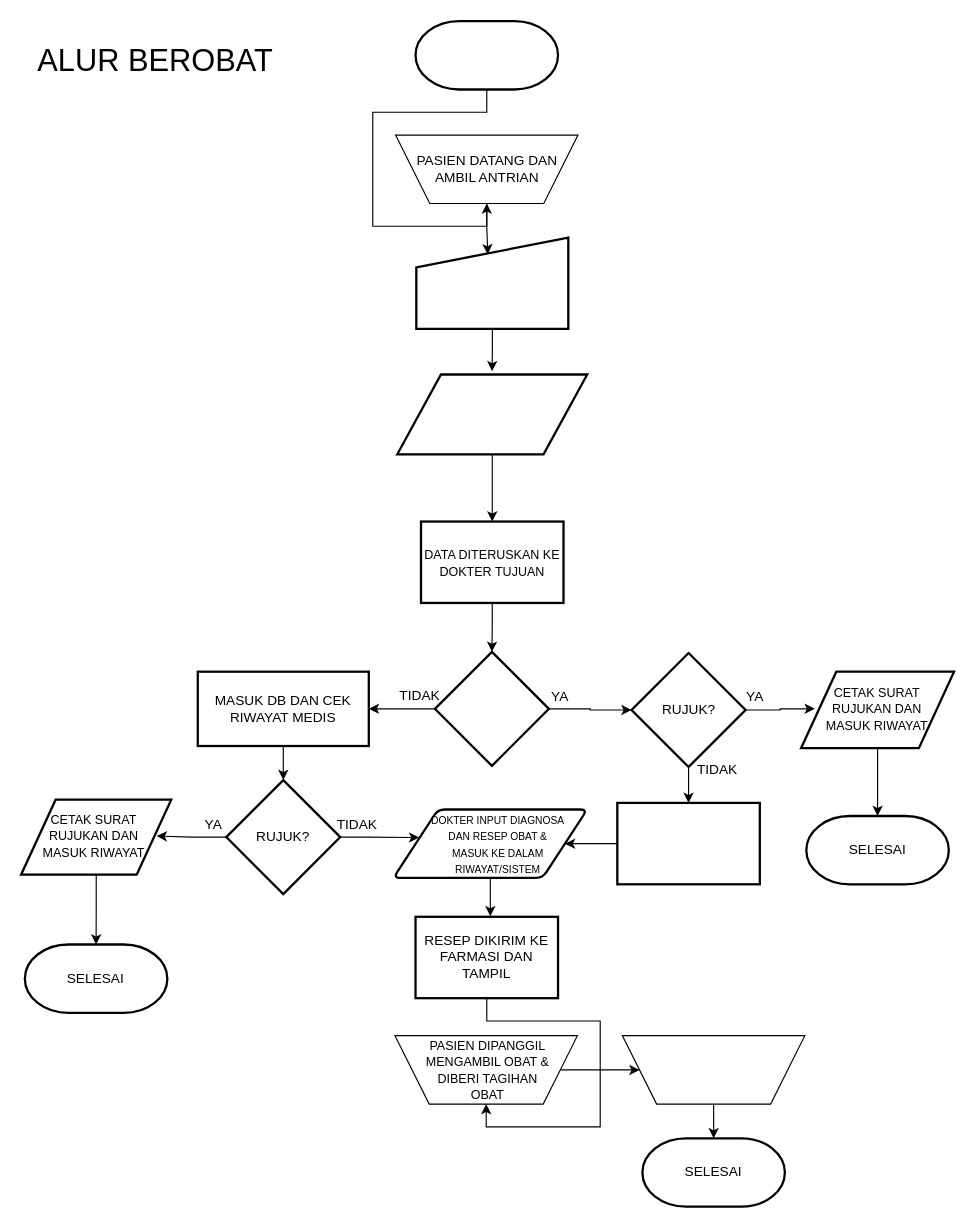
This 975x1227 diagram has some shape labels left out. The centre of each missing label's shape, as x and y in pixels:
ADMIN INPUT DATA PASIEN (NIK, NAMA, KELUHAN, DOKTER): [492,414]
ADMIN KLIK ANTRIAN SELANJUTNYA: [492,282]
BALITA?: [491,708]
MASUK KE SISTEM MONITORING STUNTING: [688,843]
MULAI: [486,54]
PASIEN KE KASIR DAN MELAKUKAN PEMBAYARAN: [713,1069]
